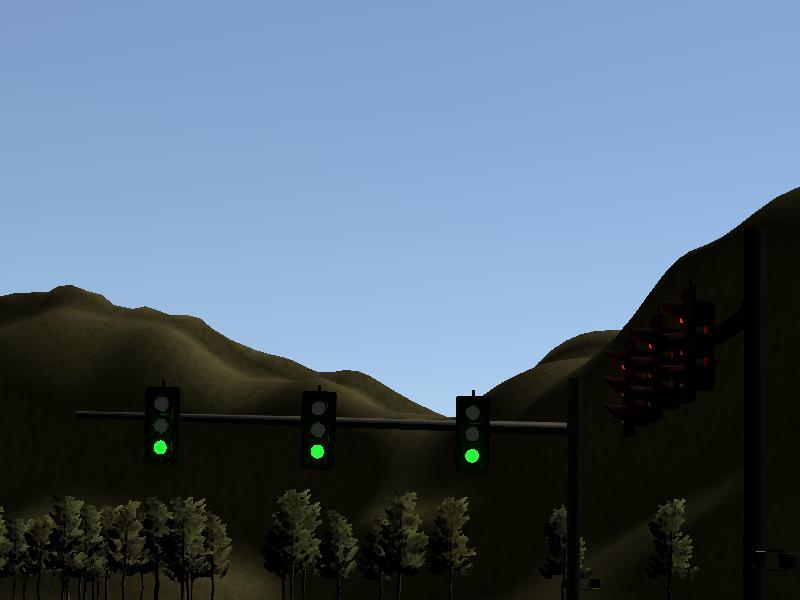Green: (142, 387, 178, 466), (454, 395, 490, 474), (300, 391, 336, 470)
